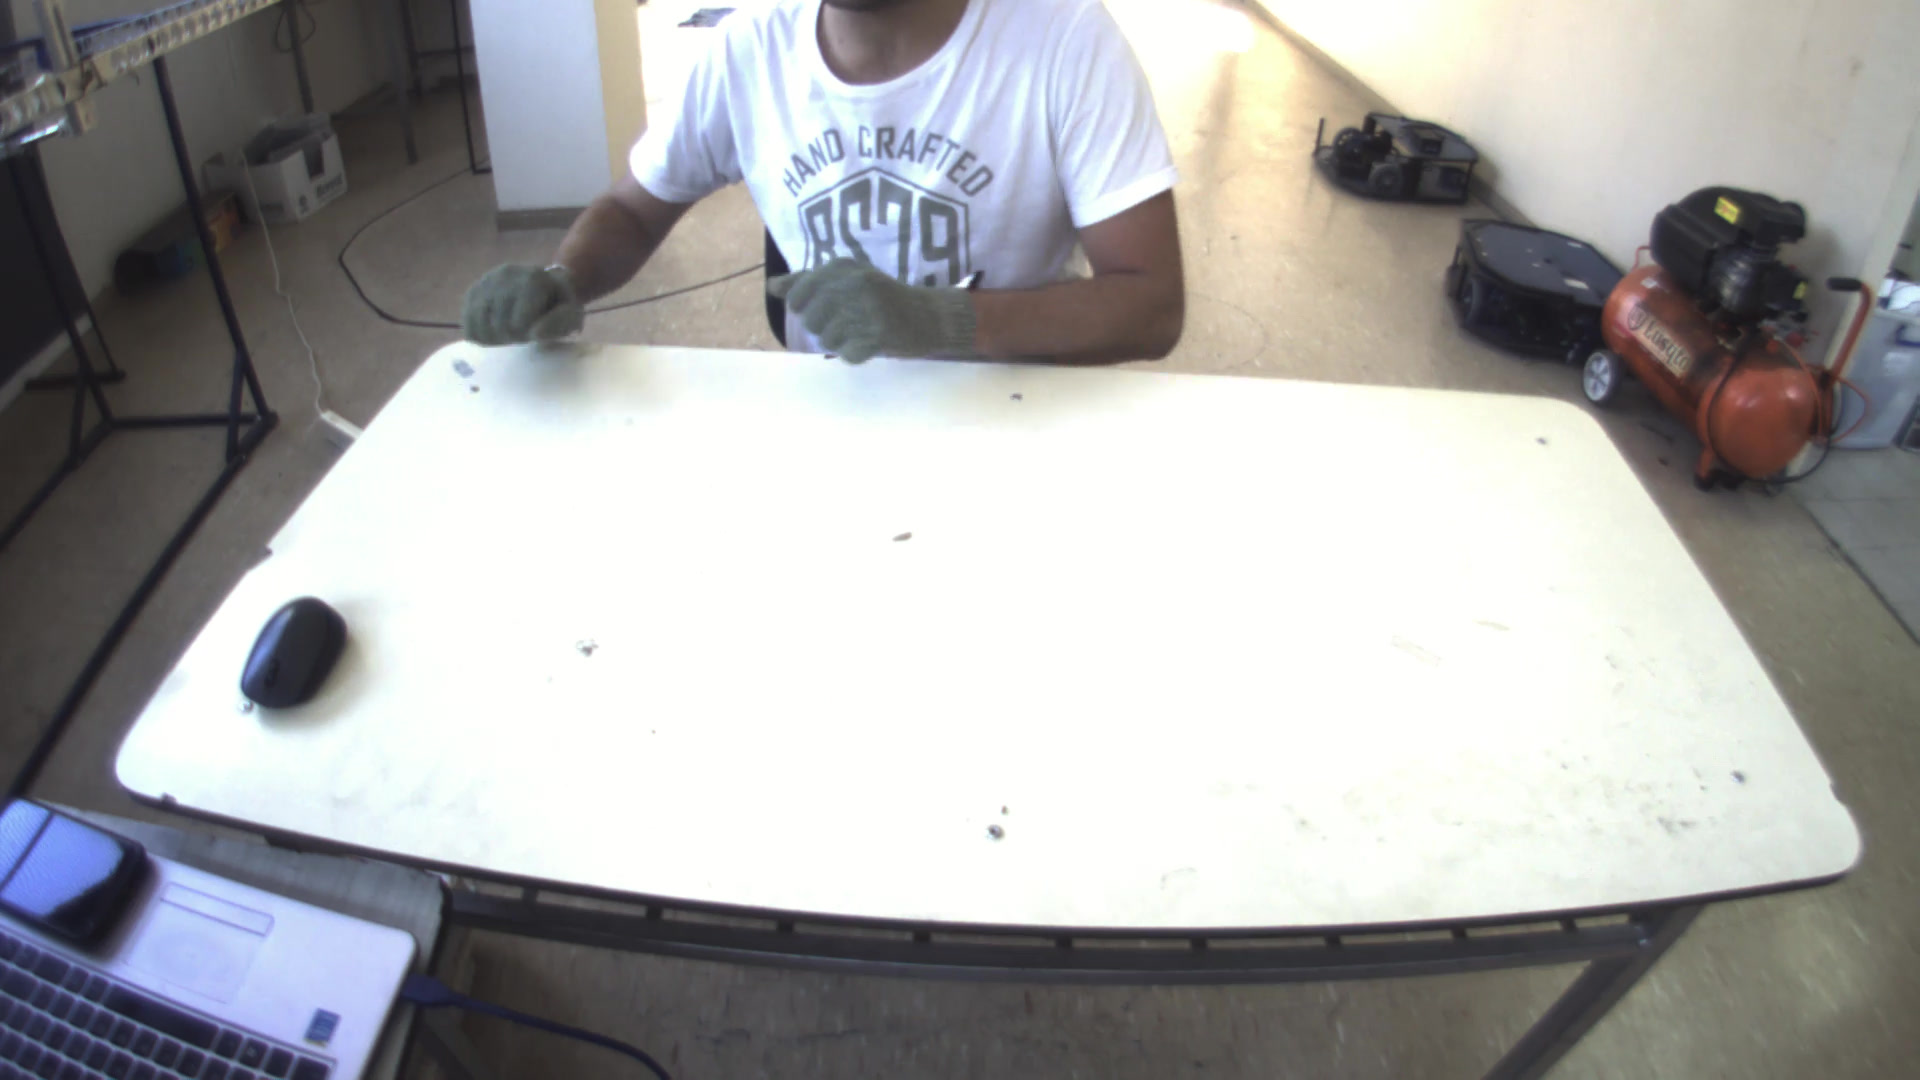hand: (769, 252, 978, 369), (442, 251, 585, 349)
